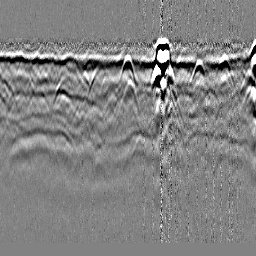cavity: (118, 53, 138, 84)
